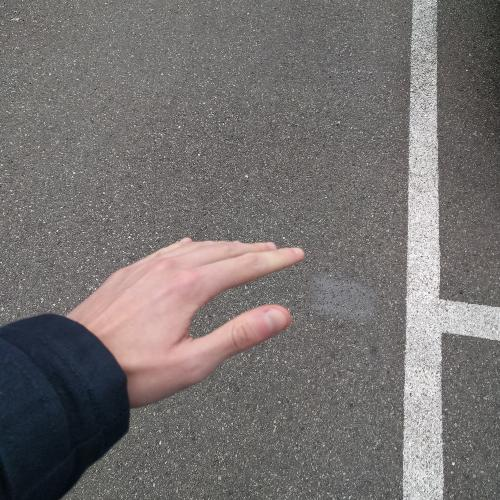paper: (59, 232, 312, 411)
